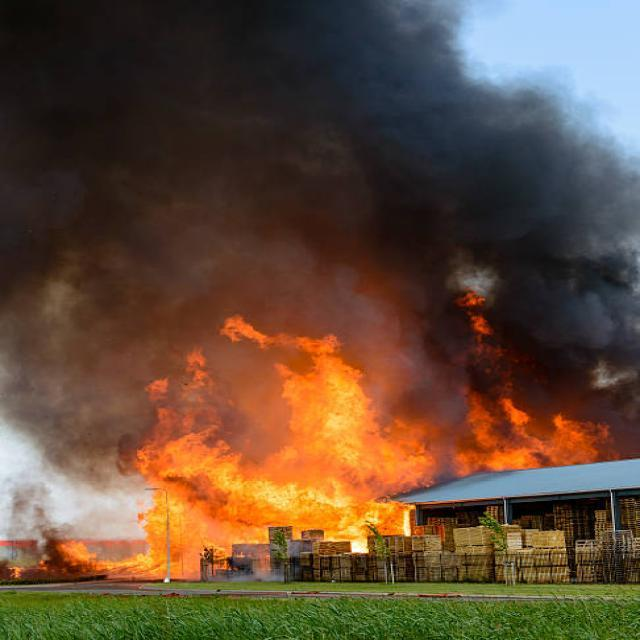Fire: (143, 328, 386, 564), (382, 370, 616, 464), (19, 530, 147, 584), (444, 303, 525, 387)
Smoke: (2, 3, 640, 351), (0, 339, 141, 517)
